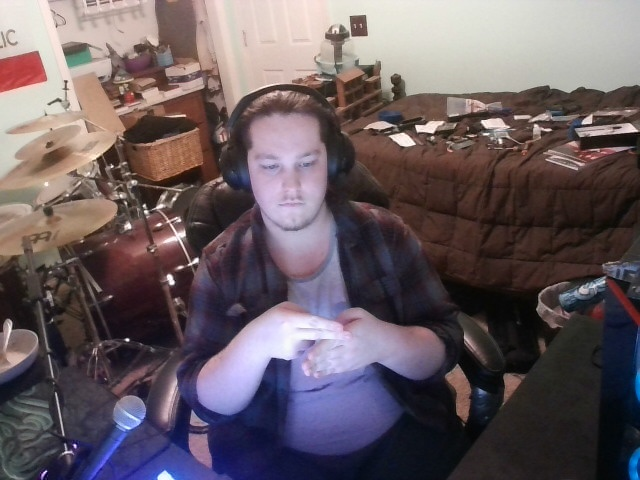name: (241, 285, 391, 395)
